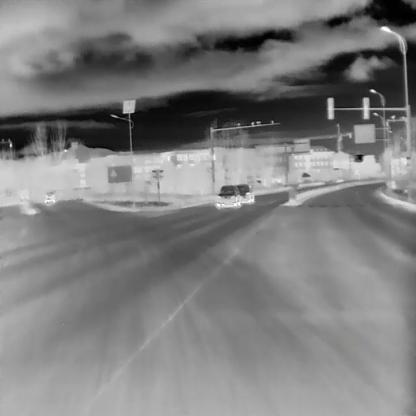car: (216, 184, 240, 206), (237, 183, 254, 202), (44, 191, 55, 203)
